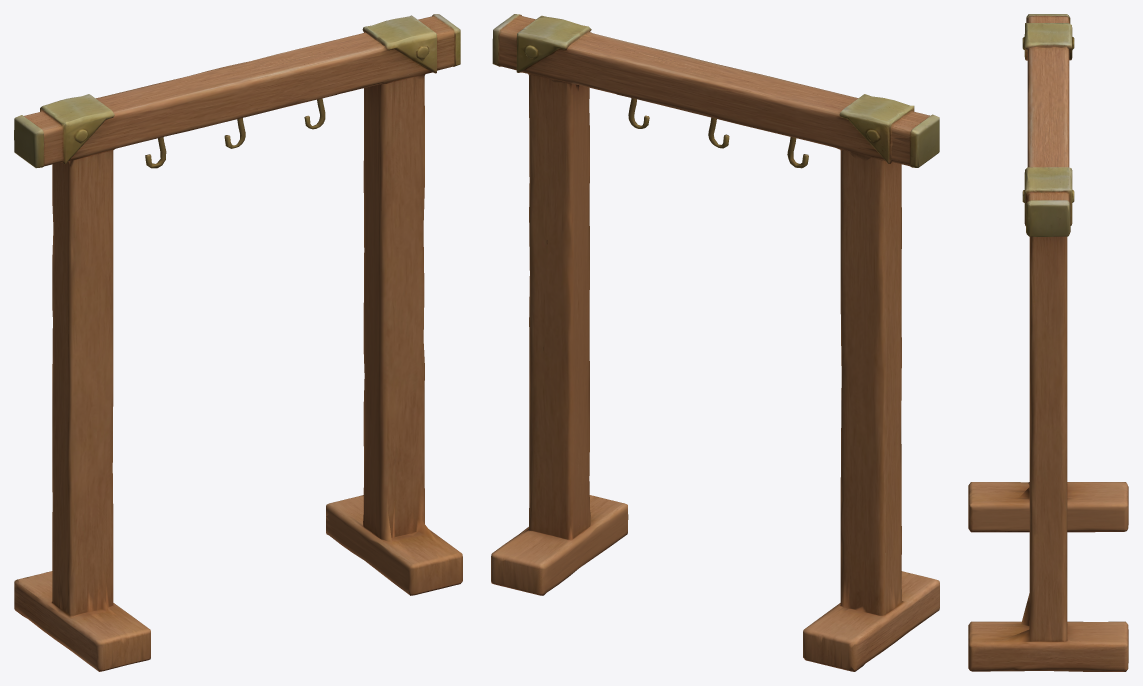
The model's file is wind_frame.glb.
3 views of the same model, side by side, from view 1: azimuth 30°, elevation 25°; view 2: azimuth 150°, elevation 25°; view 3: azimuth 270°, elevation 25° (orthographic). The views are drawn at different scales.
Visible parts, largest first — view 1: tripo_node_f84730b0-9ffc-4f9d-a1bd-e93ddd6b7fd1; view 2: tripo_node_f84730b0-9ffc-4f9d-a1bd-e93ddd6b7fd1; view 3: tripo_node_f84730b0-9ffc-4f9d-a1bd-e93ddd6b7fd1.
Boxes of the visible parts, x1=… form: tripo_node_f84730b0-9ffc-4f9d-a1bd-e93ddd6b7fd1: x1=14, y1=14, x2=462, y2=671; tripo_node_f84730b0-9ffc-4f9d-a1bd-e93ddd6b7fd1: x1=491, y1=14, x2=939, y2=671; tripo_node_f84730b0-9ffc-4f9d-a1bd-e93ddd6b7fd1: x1=968, y1=14, x2=1128, y2=671.
Bounding box in the file's own units: 0.48 × 0.57 × 0.17.
Materials: 1 (1 with a texture image).
